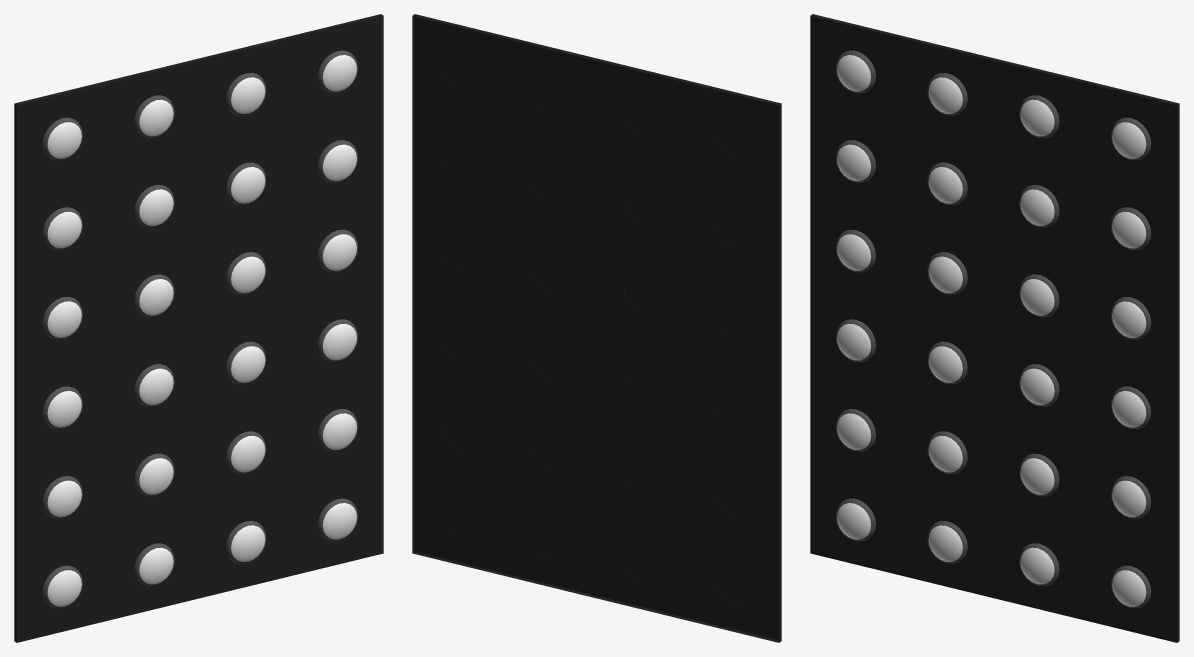
File: PanelLight02.FBX
3 views of the same model, side by side, from view 1: azimuth 30°, elevation 25°; view 2: azimuth 150°, elevation 25°; view 3: azimuth 330°, elevation 25° (orthographic).
Parts seen in each view (by area): view 1: PanelLight02; view 2: PanelLight02; view 3: PanelLight02.
Part boxes in pixels (left/top/right/bottom): PanelLight02: left=14, top=14, right=383, bottom=642; PanelLight02: left=412, top=14, right=781, bottom=642; PanelLight02: left=810, top=14, right=1179, bottom=642.
Bounding box in the file's own units: 2.5 × 3.5 × 0.0818.
